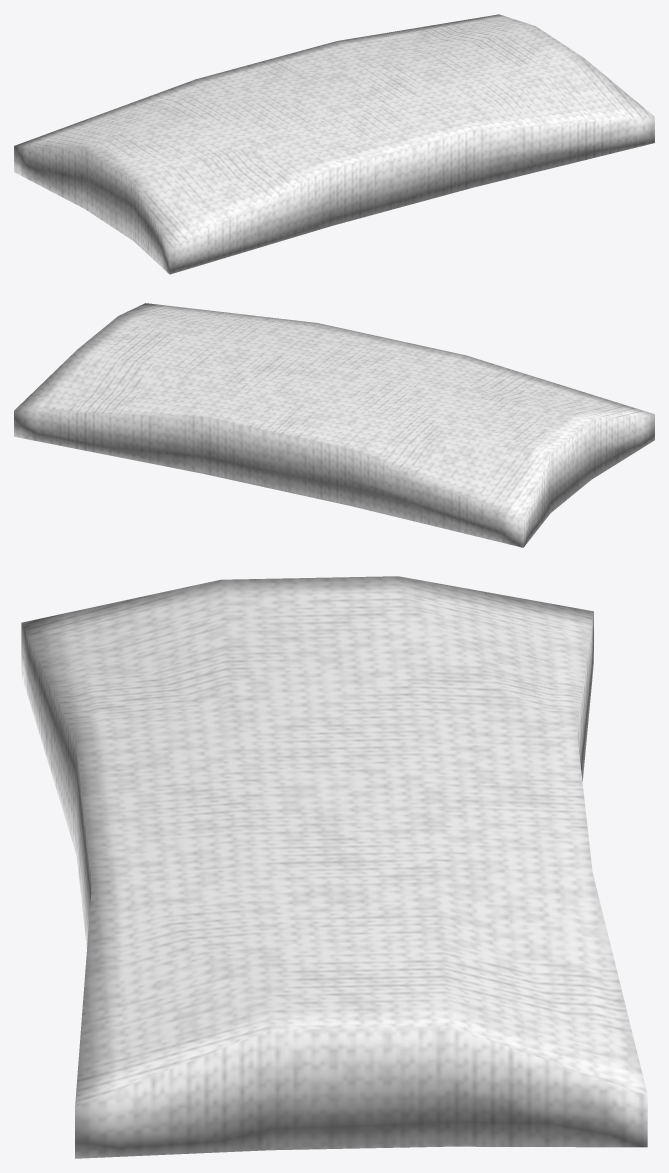
File: pillow.fbx
3 views of the same model, one above another, from view 1: azimuth 30°, elevation 25°; view 2: azimuth 150°, elevation 25°; view 3: azimuth 270°, elevation 25° (orthographic). The views are drawn at different scales.
Visible parts, largest first — view 1: Pillow.001; view 2: Pillow.001; view 3: Pillow.001.
Part boxes in pixels (x1,y1,x2,y2): Pillow.001: [14, 14, 654, 274]; Pillow.001: [14, 303, 654, 547]; Pillow.001: [21, 576, 647, 1158].
Size of the model in its own units: 51.88 by 6.34 by 27.73.
